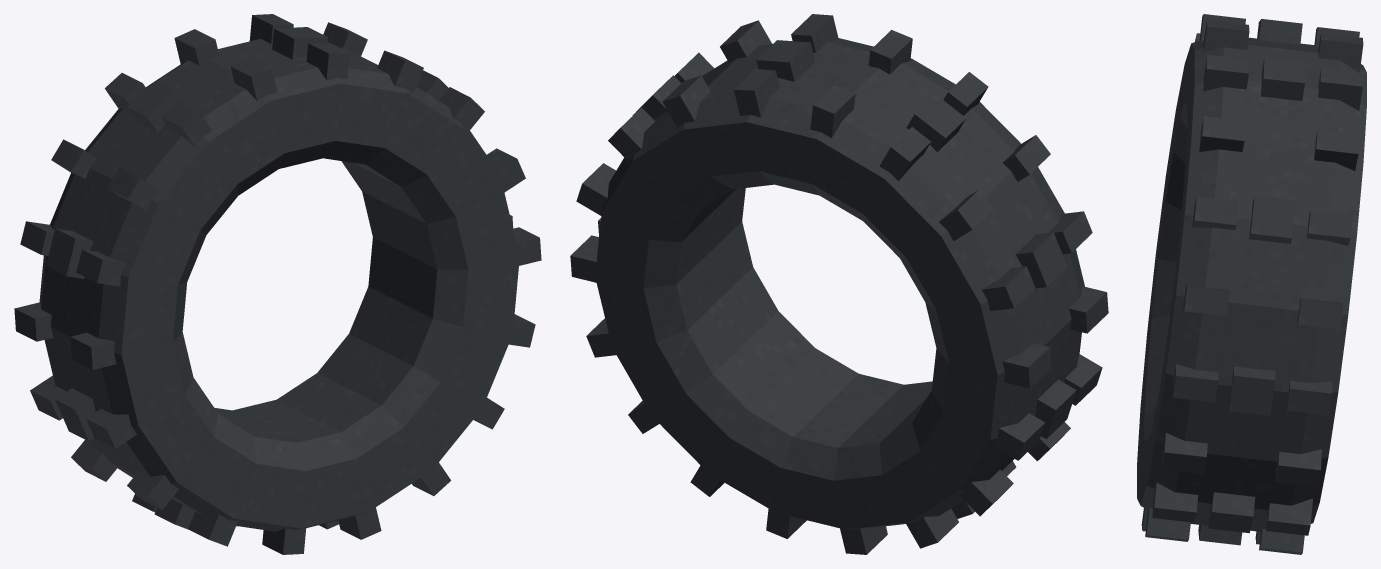
Rendered from tire_motorbike_or.glb.
The picture shows the model from 3 angles, left to right: view 1: azimuth 30°, elevation 25°; view 2: azimuth 150°, elevation 25°; view 3: azimuth 270°, elevation 25°; orthographic projection. The views are drawn at different scales.
Parts seen in each view (by area): view 1: block_wheel cross section, block_raised off-road stud (×25), block_center block (×5); view 2: block_wheel cross section, block_raised off-road stud (×24), block_center block (×5); view 3: block_wheel cross section, block_raised off-road stud (×20), block_center block (×6).
Part boxes in pixels (x1,y1,x2,y2): block_wheel cross section: [39, 39, 519, 531]; block_raised off-road stud (×25): [14, 14, 541, 554]; block_center block (×5): [46, 27, 327, 529]; block_wheel cross section: [595, 38, 1084, 529]; block_raised off-road stud (×24): [570, 14, 1108, 554]; block_center block (×5): [632, 40, 1076, 438]; block_wheel cross section: [1137, 37, 1366, 531]; block_raised off-road stud (×20): [1145, 14, 1363, 554]; block_center block (×6): [1198, 19, 1305, 545].
Bounding box in the file's own units: 0.4978 × 0.508 × 0.217.
Materials: 1 (1 with a texture image).
